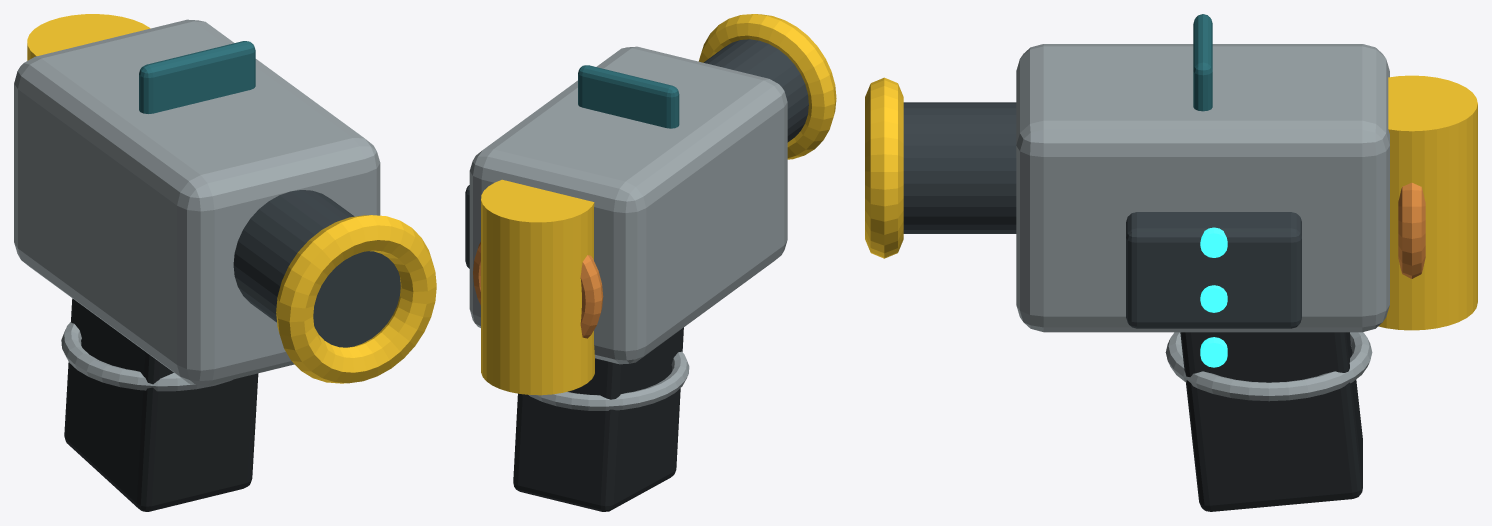
The model's file is color_gun_variant_c.glb.
3 renders of one model, left to right at view 1: azimuth 30°, elevation 25°; view 2: azimuth 150°, elevation 25°; view 3: azimuth 270°, elevation 25°, orthographic. The views are drawn at different scales.
Parts seen in each view (by area): view 1: Tool body, Tool grip, Emitter rim, Tool barrel, Top display, Color cartridge, Service ring.001; view 2: Tool body, Color cartridge, Tool grip, Emitter rim, Top display, Tool barrel, Service ring.001, Cartridge ring; view 3: Tool body, Tool grip, Color cartridge, Side module, Tool barrel, Emitter rim, Service ring.001, Cartridge ring, Top display, Status indicator, Status indicator.002.
Boxes of the visible parts, bbox=[...] form: Tool body: bbox=[14, 19, 380, 385]; Tool grip: bbox=[64, 298, 258, 511]; Emitter rim: bbox=[276, 215, 436, 383]; Tool barrel: bbox=[233, 190, 400, 347]; Top display: bbox=[139, 41, 255, 113]; Color cartridge: bbox=[27, 14, 150, 60]; Service ring.001: bbox=[61, 322, 233, 391]; Tool body: bbox=[469, 46, 787, 364]; Color cartridge: bbox=[481, 179, 594, 395]; Tool grip: bbox=[513, 327, 683, 511]; Emitter rim: bbox=[698, 14, 836, 159]; Top display: bbox=[578, 65, 679, 128]; Tool barrel: bbox=[703, 39, 808, 142]; Service ring.001: bbox=[529, 351, 689, 410]; Cartridge ring: bbox=[473, 242, 603, 338]; Tool body: bbox=[1016, 44, 1389, 332]; Tool grip: bbox=[1180, 332, 1362, 511]; Color cartridge: bbox=[1378, 75, 1477, 330]; Side module: bbox=[1126, 212, 1301, 328]; Tool barrel: bbox=[903, 102, 1016, 233]; Emitter rim: bbox=[865, 77, 903, 258]; Service ring.001: bbox=[1165, 332, 1372, 401]; Cartridge ring: bbox=[1398, 182, 1425, 278]; Top display: bbox=[1193, 14, 1212, 111]; Status indicator: bbox=[1200, 337, 1227, 367]; Status indicator.002: bbox=[1200, 227, 1227, 257].
Size of what is drawn, in the model's own units: 0.5225 by 0.9018 by 1.11.
